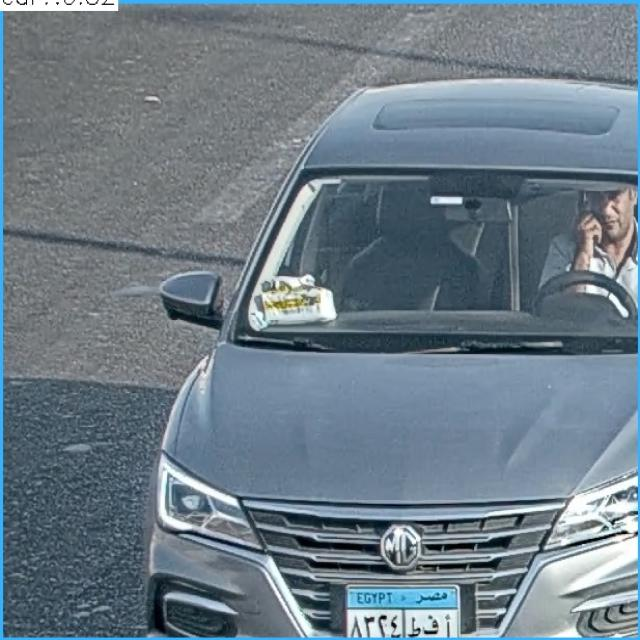windshield: (233, 167, 638, 350)
